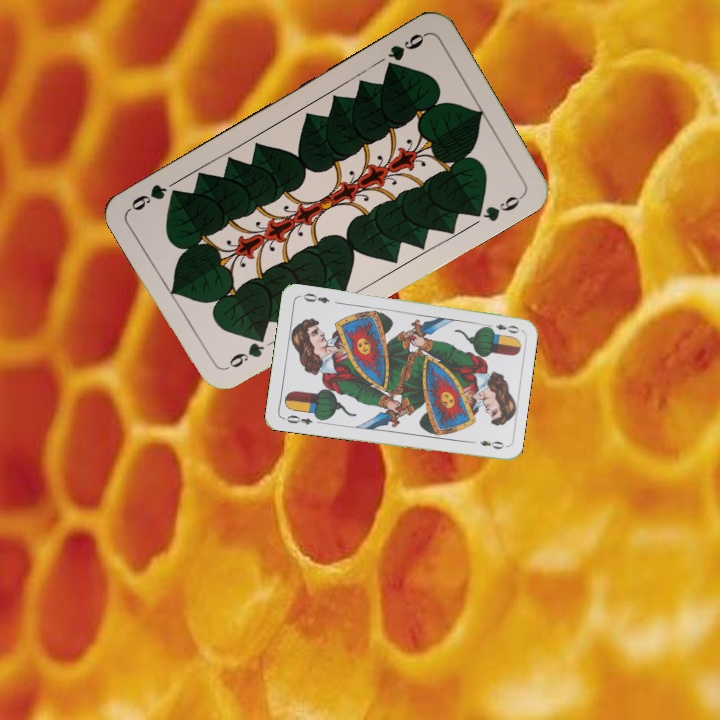EO: (482, 320, 522, 336), (279, 411, 315, 427)
G9: (381, 29, 429, 74), (221, 331, 268, 373)
